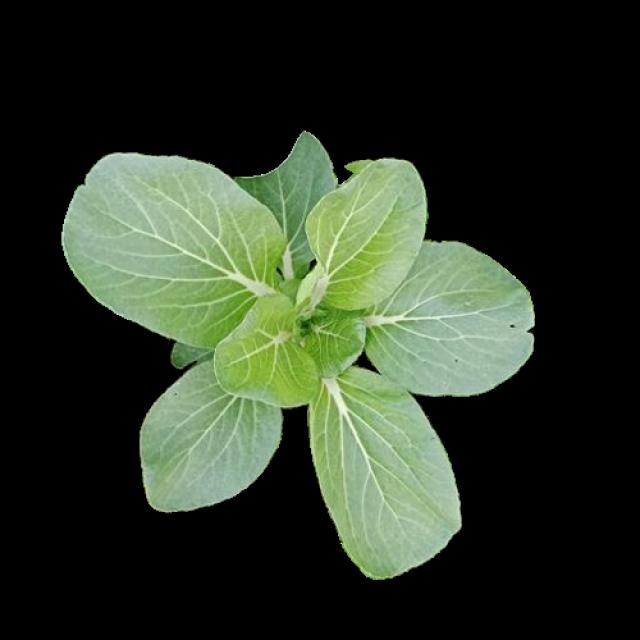not-mature: (67, 141, 531, 575)
unhealthy: (356, 240, 534, 396)
